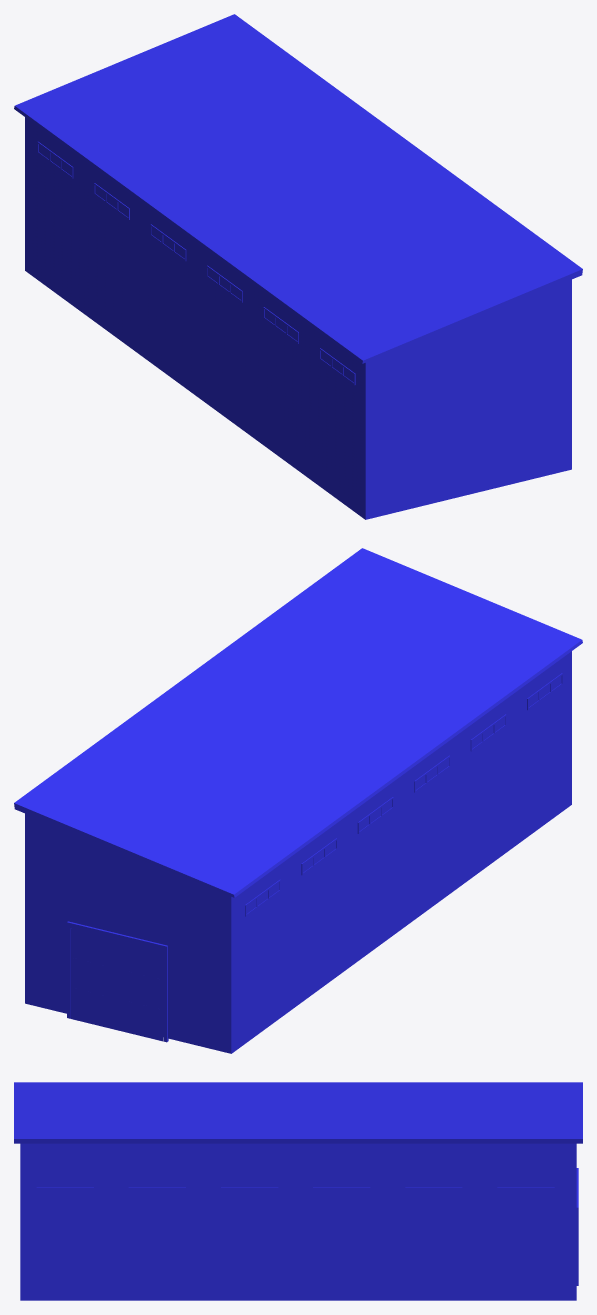
File: Building_09.fbx
3 renders of one model, top to bottom at view 1: azimuth 30°, elevation 25°; view 2: azimuth 150°, elevation 25°; view 3: azimuth 270°, elevation 25°, orthographic. The views are drawn at different scales.
Visible parts, largest first — view 1: Building_09; view 2: Building_09; view 3: Building_09.
Part boxes in pixels (x1=…): Building_09: x1=14, y1=14, x2=582, y2=519; Building_09: x1=14, y1=548, x2=582, y2=1053; Building_09: x1=14, y1=1082, x2=582, y2=1300.
Size of the model in its own units: 807 by 715 by 2207.
